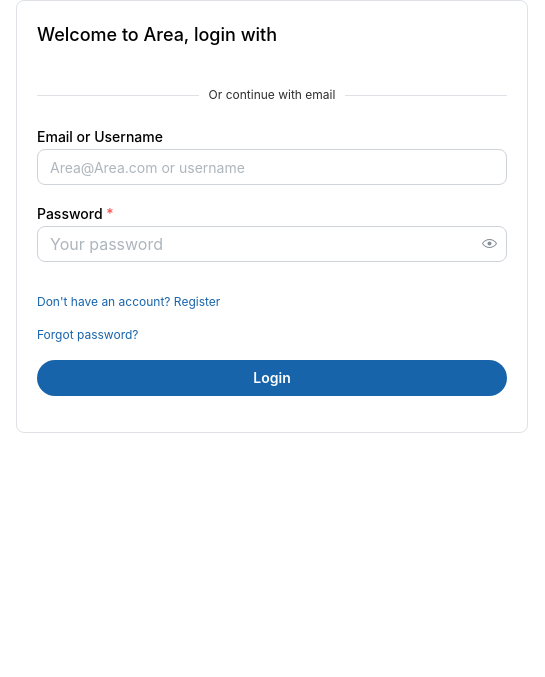
it: AuthenticationForm › handles login error
Type "test@example.com" into the field with placeholder "Area@Area.com or username" at (272, 167), box [37, 149, 507, 185]
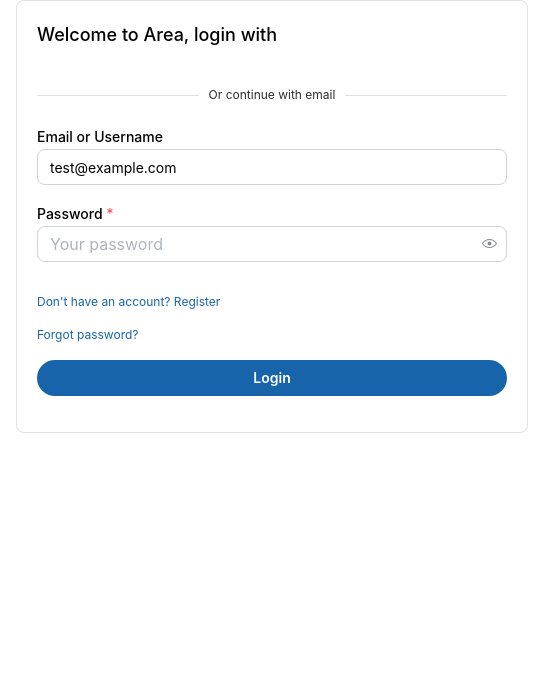
Type "password123" into the password field with placeholder "Your password" at (272, 244), box [38, 227, 506, 261]
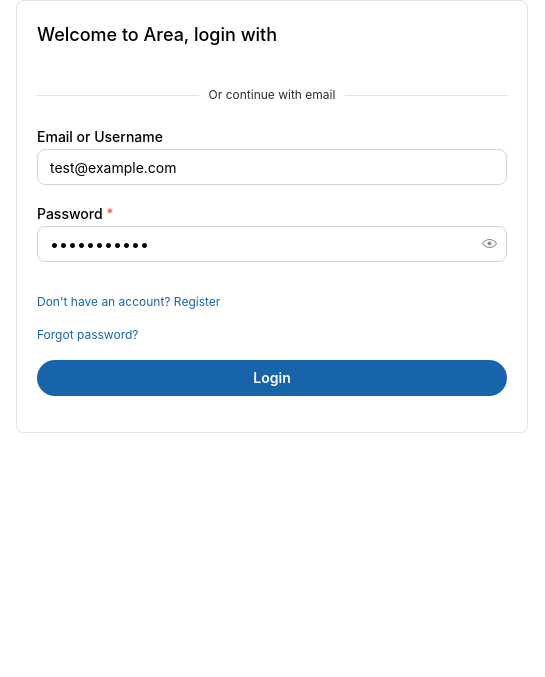
Click the button "Login" at (272, 378), box [37, 360, 507, 396]
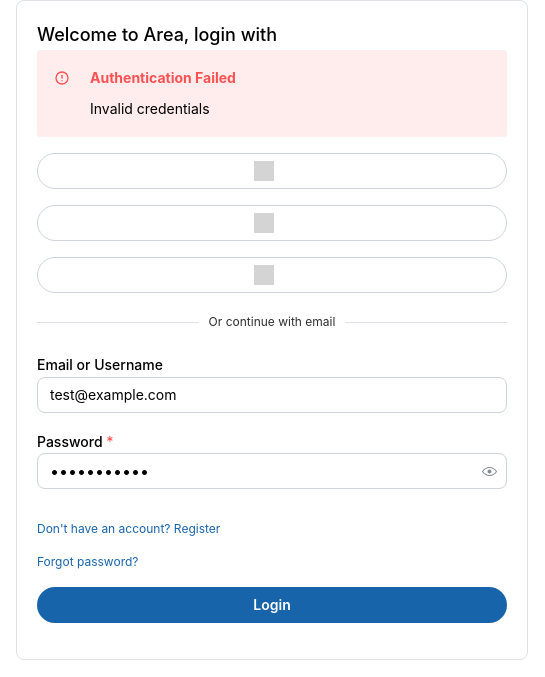
Expected: the text "Invalid credentials" is shown, [90, 100, 210, 118]
